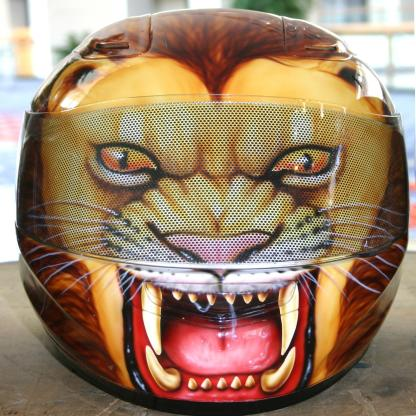Helmet: (17, 8, 410, 416)
